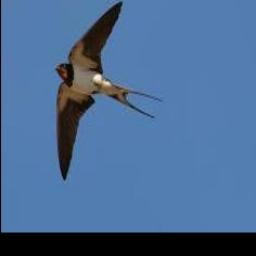Swallow: (54, 3, 162, 181)
